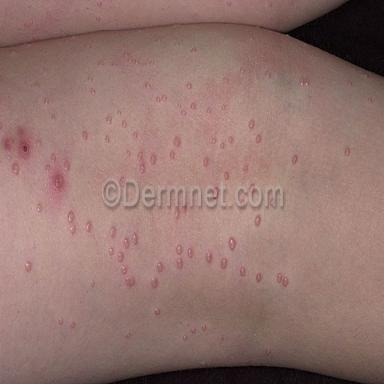Molluscum-Contagiosum: (125, 276, 135, 287), (132, 232, 139, 245), (229, 237, 235, 251), (12, 162, 19, 174), (177, 257, 183, 269), (282, 277, 289, 287), (64, 160, 71, 170), (174, 136, 181, 146), (248, 119, 255, 129), (25, 261, 31, 272), (157, 261, 163, 272), (151, 277, 157, 288), (256, 272, 262, 283), (150, 154, 156, 165), (68, 212, 74, 222), (118, 252, 124, 262), (121, 265, 127, 275), (176, 245, 182, 255), (206, 252, 212, 262), (221, 259, 227, 269), (255, 215, 261, 225), (277, 272, 282, 283), (83, 130, 88, 141), (187, 248, 193, 257), (139, 164, 145, 173), (203, 157, 209, 166), (265, 70, 271, 79), (86, 221, 91, 231), (110, 227, 115, 237), (124, 238, 129, 248), (240, 267, 245, 277), (293, 154, 298, 164), (345, 146, 350, 156), (145, 82, 152, 89), (155, 307, 161, 315), (169, 151, 175, 159), (37, 204, 42, 213), (70, 224, 75, 233), (51, 153, 56, 162), (51, 113, 56, 122), (138, 151, 143, 160), (256, 134, 261, 143), (109, 247, 114, 255), (44, 97, 49, 105), (107, 116, 112, 124), (122, 120, 127, 128), (224, 172, 229, 180), (300, 77, 305, 85), (305, 78, 310, 86), (191, 102, 196, 110), (162, 94, 167, 102), (221, 104, 227, 110), (181, 110, 187, 116), (125, 332, 130, 339), (191, 327, 196, 334), (133, 131, 138, 138), (220, 142, 225, 149), (243, 165, 248, 172), (156, 96, 161, 103), (59, 317, 63, 325), (46, 164, 50, 172), (105, 135, 109, 143), (207, 106, 211, 114), (36, 140, 41, 146), (126, 150, 131, 156), (211, 138, 216, 144), (240, 67, 245, 73), (149, 59, 155, 64), (32, 241, 36, 248), (71, 321, 75, 328), (91, 280, 95, 287), (183, 334, 187, 341), (229, 136, 233, 143), (187, 82, 191, 89), (91, 88, 95, 95), (99, 59, 103, 66), (223, 77, 228, 82), (202, 325, 206, 331), (88, 76, 92, 82), (127, 57, 131, 63), (135, 59, 139, 65), (113, 62, 117, 67), (118, 110, 121, 116), (178, 103, 181, 108), (124, 53, 127, 57)
